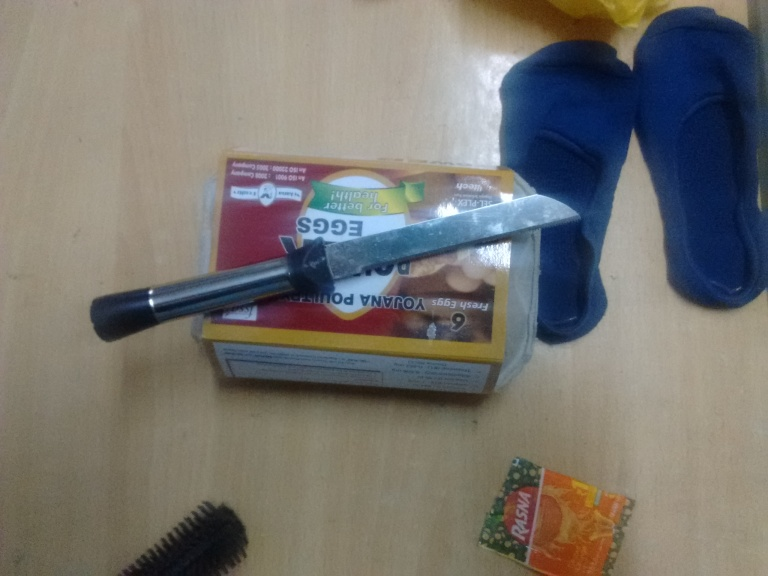knife: (86, 193, 583, 346)
